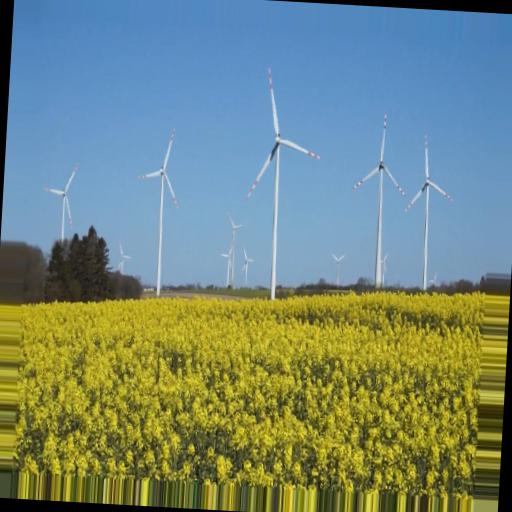wind turbine: (236, 67, 321, 297), (350, 112, 407, 290), (403, 134, 455, 292), (139, 127, 180, 296), (44, 159, 83, 250)
